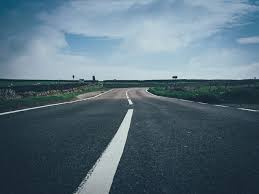strada: (13, 89, 259, 194)
